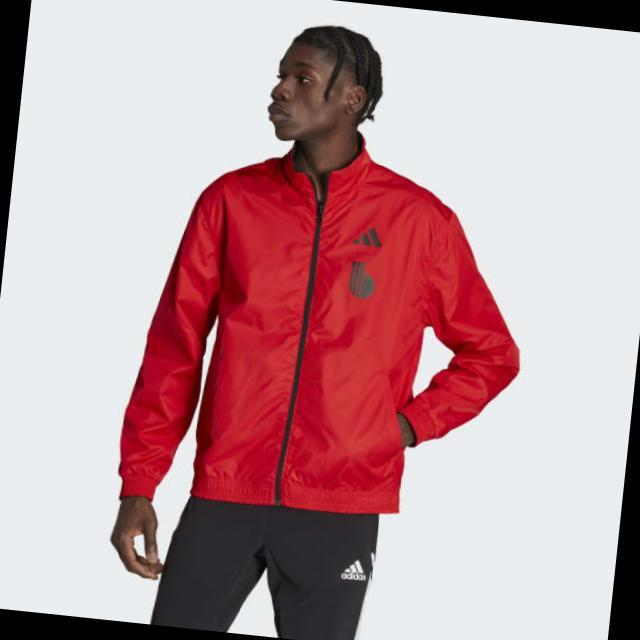jacket: (108, 128, 527, 513)
trousers: (146, 496, 384, 640)
